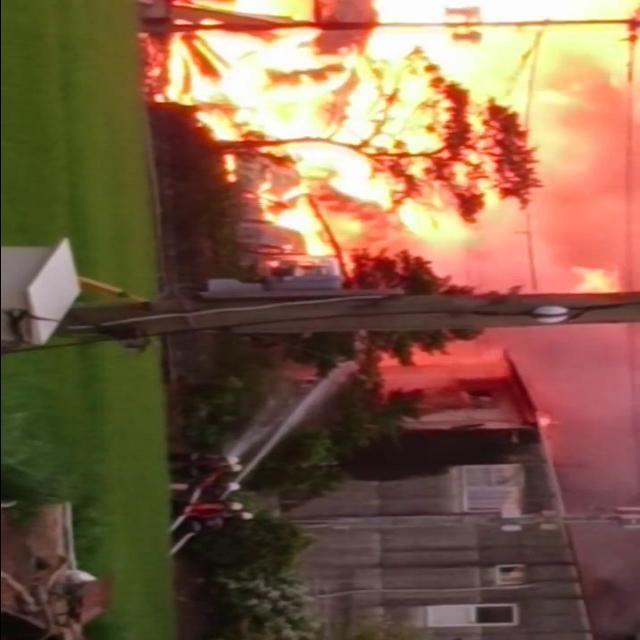Fire: (161, 2, 631, 250)
